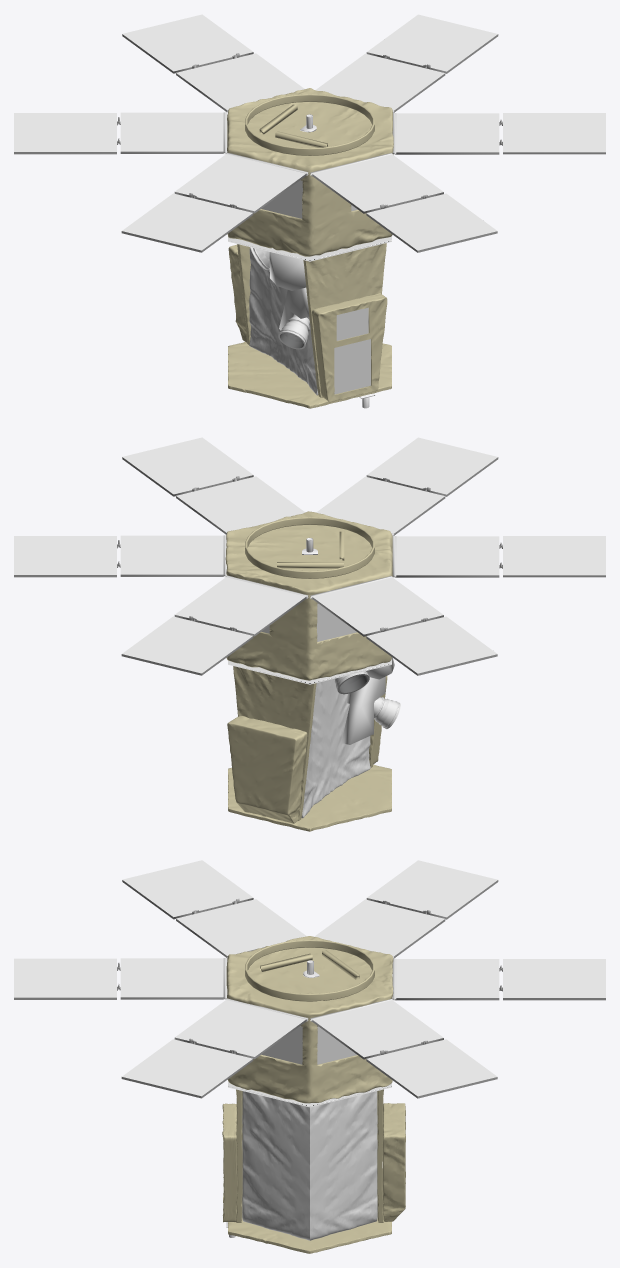
The model's file is sorce.glb.
3 views of the same model, one above another, from view 1: azimuth 30°, elevation 25°; view 2: azimuth 150°, elevation 25°; view 3: azimuth 270°, elevation 25° (orthographic).
Parts seen in each view (by area): view 1: SORCE_vFINAL [Layer11], SORCE_vFINAL [Layer1], SORCE_vFINAL [Layer10], SORCE_vFINAL [Layer3], SORCE_vFINAL [Layer8], SORCE_vFINAL [Layer5], SORCE_vFINAL [Layer15], SORCE_vFINAL [Layer12], SORCE_vFINAL [Layer7], SORCE_vFINAL [Layer9], SORCE_vFINAL [Layer6], SORCE_vFINAL [Layer4] (+1 smaller); view 2: SORCE_vFINAL [Layer11], SORCE_vFINAL [Layer1], SORCE_vFINAL [Layer4], SORCE_vFINAL [Layer10], SORCE_vFINAL [Layer2], SORCE_vFINAL [Layer8], SORCE_vFINAL [Layer15], SORCE_vFINAL [Layer9], SORCE_vFINAL [Layer7], SORCE_vFINAL [Layer6], SORCE_vFINAL [Layer12]; view 3: SORCE_vFINAL [Layer11], SORCE_vFINAL [Layer1], SORCE_vFINAL [Layer6], SORCE_vFINAL [Layer7], SORCE_vFINAL [Layer15], SORCE_vFINAL [Layer9], SORCE_vFINAL [Layer4], SORCE_vFINAL [Layer8], SORCE_vFINAL [Layer5], SORCE_vFINAL [Layer12], SORCE_vFINAL [Layer10], SORCE_vFINAL [Layer2] (+1 smaller).
Boxes of the visible parts, x1=… form: SORCE_vFINAL [Layer11]: x1=14, y1=14, x2=605, y2=250; SORCE_vFINAL [Layer1]: x1=227, y1=88, x2=393, y2=256; SORCE_vFINAL [Layer10]: x1=223, y1=110, x2=396, y2=408; SORCE_vFINAL [Layer3]: x1=303, y1=243, x2=386, y2=397; SORCE_vFINAL [Layer8]: x1=228, y1=342, x2=391, y2=408; SORCE_vFINAL [Layer5]: x1=312, y1=293, x2=387, y2=402; SORCE_vFINAL [Layer15]: x1=14, y1=34, x2=605, y2=252; SORCE_vFINAL [Layer12]: x1=261, y1=180, x2=370, y2=394; SORCE_vFINAL [Layer7]: x1=249, y1=248, x2=289, y2=368; SORCE_vFINAL [Layer9]: x1=245, y1=94, x2=374, y2=155; SORCE_vFINAL [Layer6]: x1=289, y1=317, x2=318, y2=395; SORCE_vFINAL [Layer4]: x1=228, y1=244, x2=246, y2=342; SORCE_vFINAL [Layer11]: x1=14, y1=437, x2=605, y2=673; SORCE_vFINAL [Layer1]: x1=225, y1=511, x2=392, y2=680; SORCE_vFINAL [Layer4]: x1=227, y1=716, x2=307, y2=823; SORCE_vFINAL [Layer10]: x1=223, y1=533, x2=400, y2=744; SORCE_vFINAL [Layer2]: x1=233, y1=666, x2=316, y2=820; SORCE_vFINAL [Layer8]: x1=228, y1=764, x2=391, y2=831; SORCE_vFINAL [Layer15]: x1=14, y1=457, x2=605, y2=675; SORCE_vFINAL [Layer9]: x1=245, y1=517, x2=374, y2=578; SORCE_vFINAL [Layer7]: x1=301, y1=680, x2=331, y2=818; SORCE_vFINAL [Layer6]: x1=330, y1=679, x2=370, y2=791; SORCE_vFINAL [Layer12]: x1=262, y1=603, x2=356, y2=641; SORCE_vFINAL [Layer11]: x1=14, y1=860, x2=605, y2=1096; SORCE_vFINAL [Layer1]: x1=226, y1=936, x2=393, y2=1103; SORCE_vFINAL [Layer6]: x1=242, y1=1091, x2=309, y2=1240; SORCE_vFINAL [Layer7]: x1=310, y1=1091, x2=377, y2=1240; SORCE_vFINAL [Layer15]: x1=14, y1=880, x2=605, y2=1098; SORCE_vFINAL [Layer9]: x1=245, y1=940, x2=374, y2=1001; SORCE_vFINAL [Layer4]: x1=382, y1=1103, x2=405, y2=1221; SORCE_vFINAL [Layer8]: x1=228, y1=1218, x2=391, y2=1253; SORCE_vFINAL [Layer5]: x1=222, y1=1103, x2=237, y2=1222; SORCE_vFINAL [Layer12]: x1=261, y1=1026, x2=356, y2=1064; SORCE_vFINAL [Layer10]: x1=223, y1=947, x2=396, y2=1237; SORCE_vFINAL [Layer2]: x1=377, y1=1089, x2=383, y2=1222.
Bounding box in the file's own units: 230 × 121 × 243.
